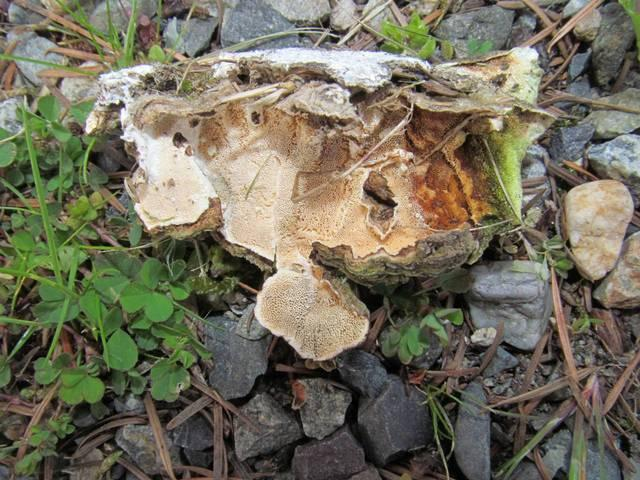Non-edible Mushroom: (83, 43, 556, 363), (252, 264, 371, 364)
